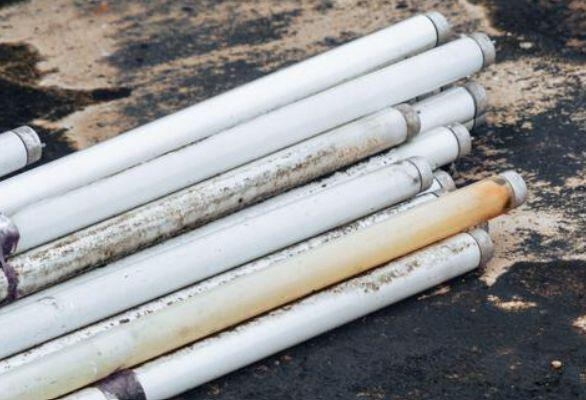light bulb: (0, 167, 530, 400), (63, 225, 496, 400), (274, 25, 491, 135), (3, 187, 185, 308), (2, 335, 163, 399), (346, 163, 466, 224), (1, 126, 44, 185)
